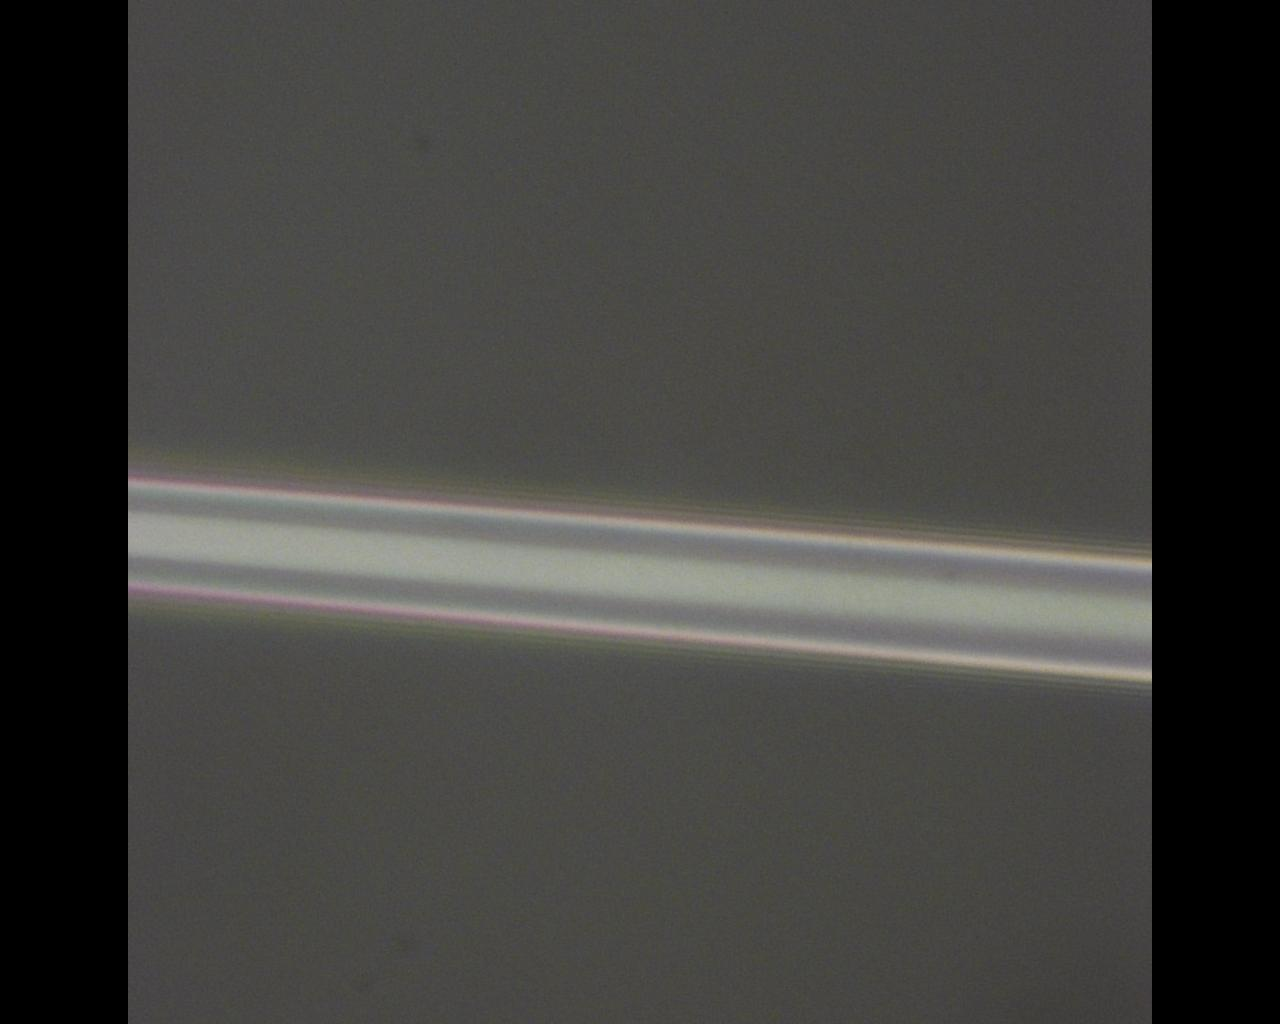fiber: (127, 473, 1151, 686)
